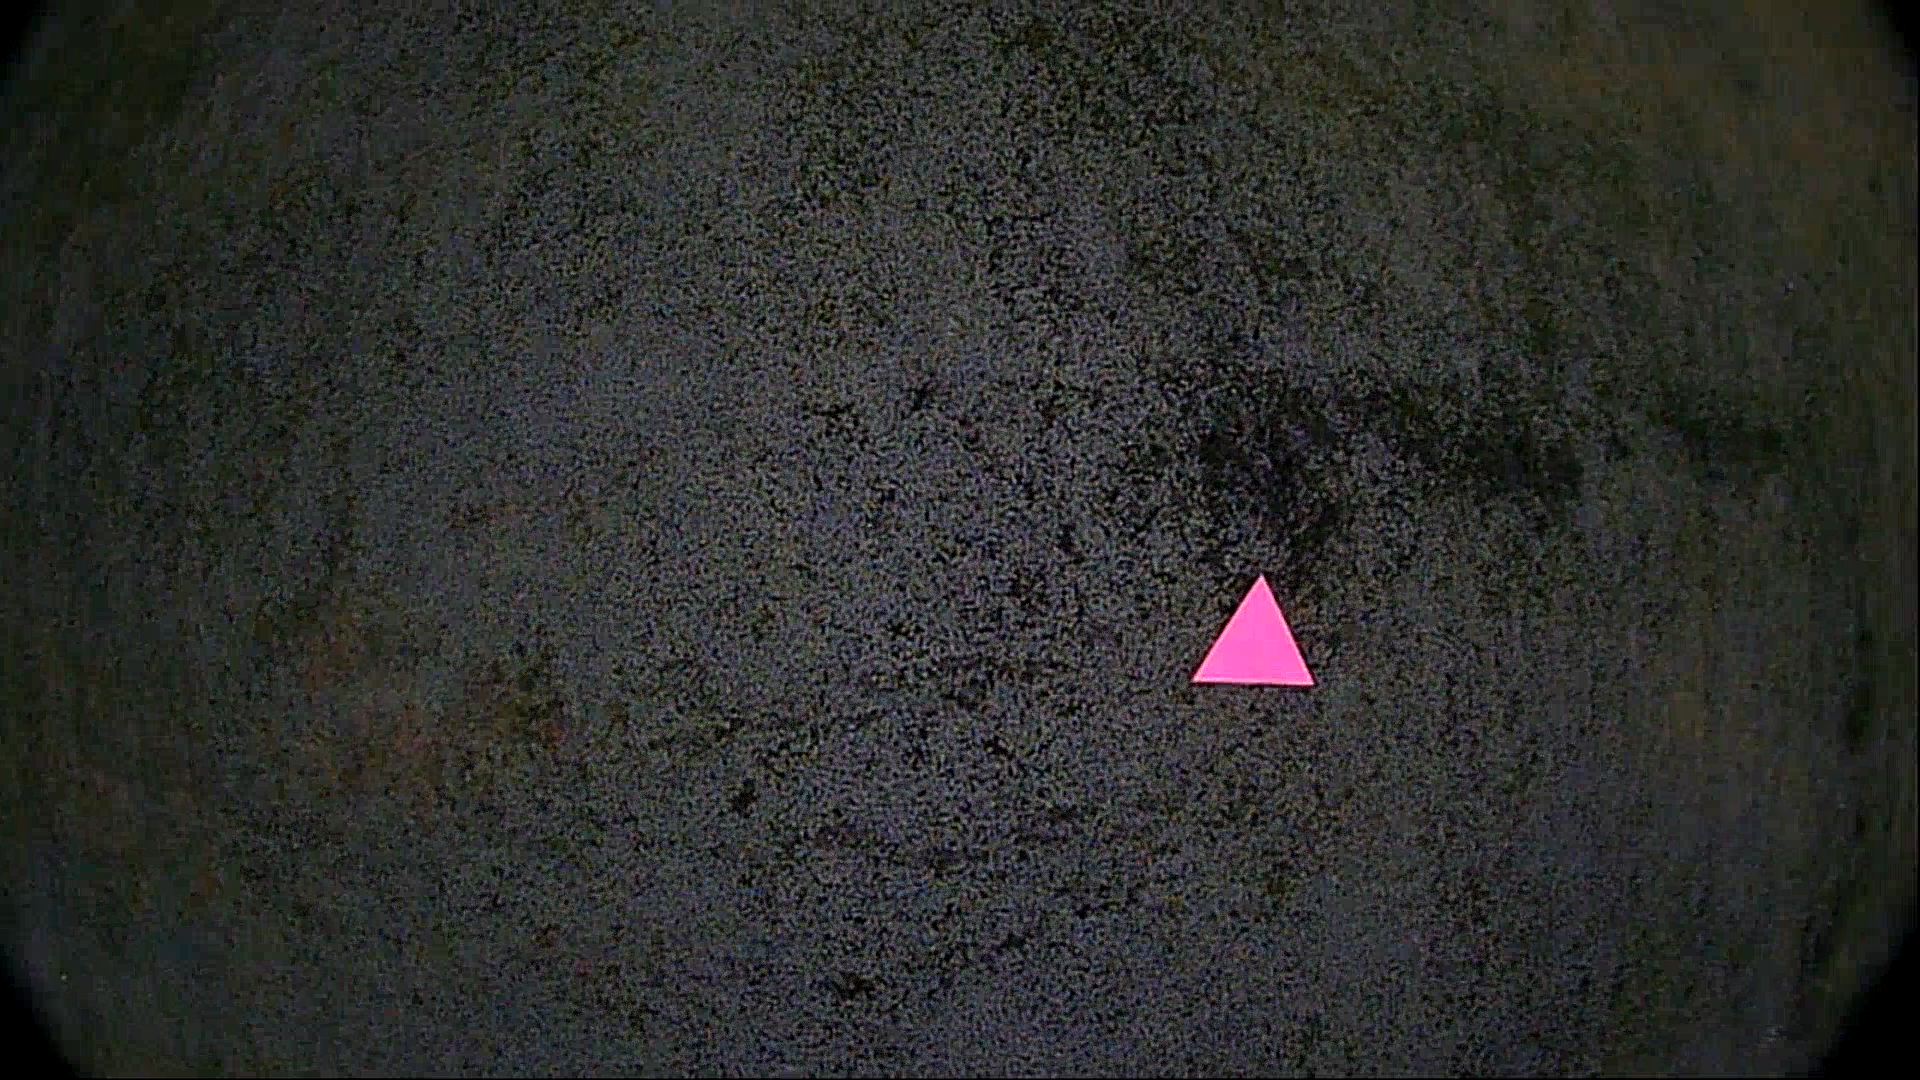triangle: (1182, 566, 1323, 700)
